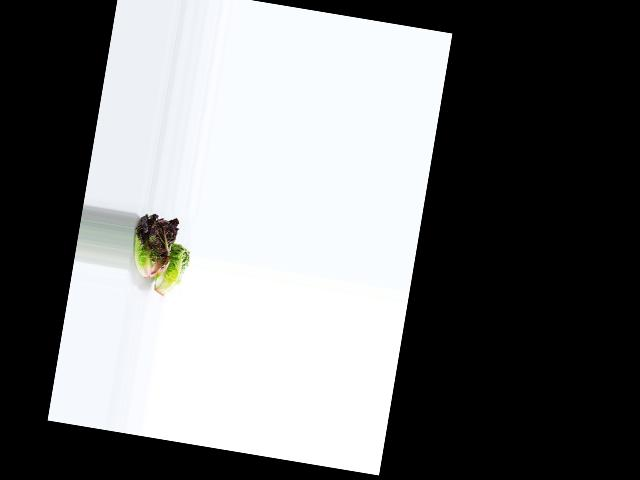lettuce: (150, 239, 192, 301)
